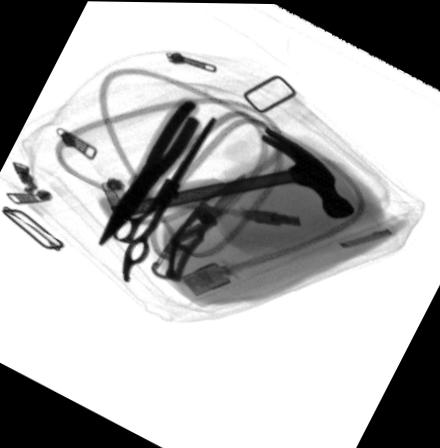Hammer: (96, 126, 355, 227)
Knife: (148, 174, 247, 285)
Pliers: (95, 96, 200, 249)
Scissors: (111, 116, 218, 283)
